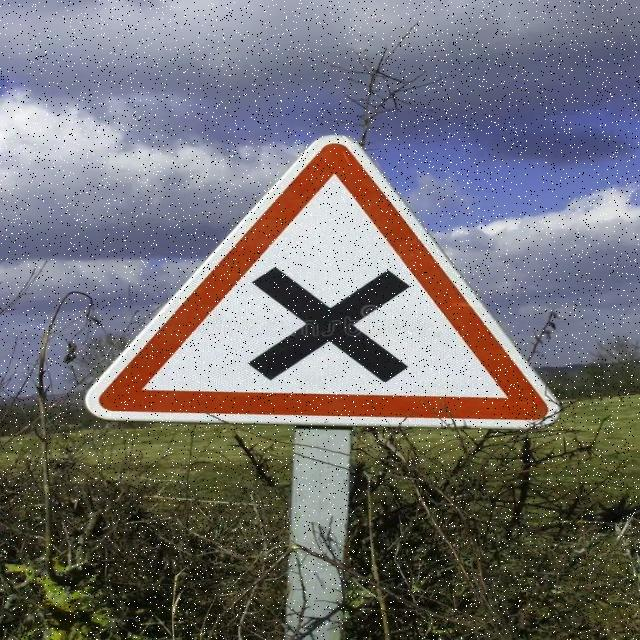Crossroads: (91, 137, 557, 414)
